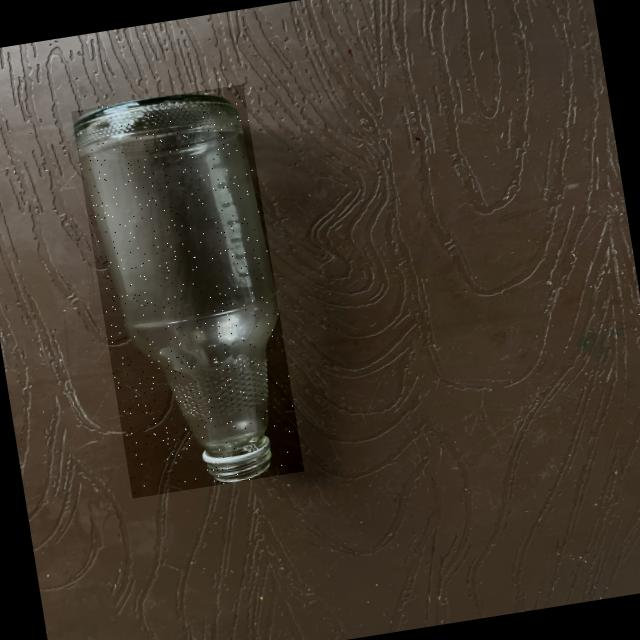Glass_Bottle: (74, 95, 277, 481)
